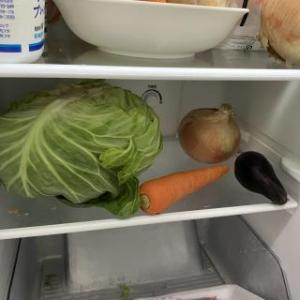cabbage: (0, 81, 164, 221)
carrot: (137, 164, 230, 216)
eggplant: (234, 150, 288, 206)
onion: (177, 102, 242, 164), (256, 0, 300, 68)
